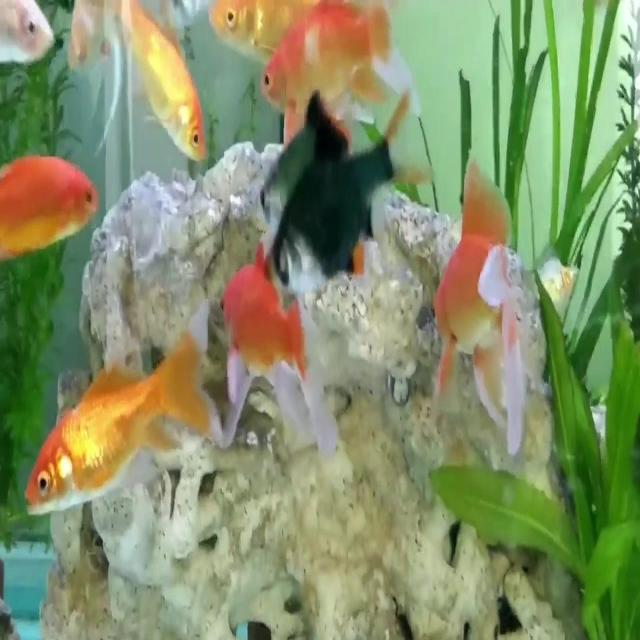GoldFish: (18, 328, 217, 528), (121, 0, 215, 179), (436, 190, 515, 400), (260, 15, 394, 116), (0, 146, 101, 260), (221, 256, 303, 387)
